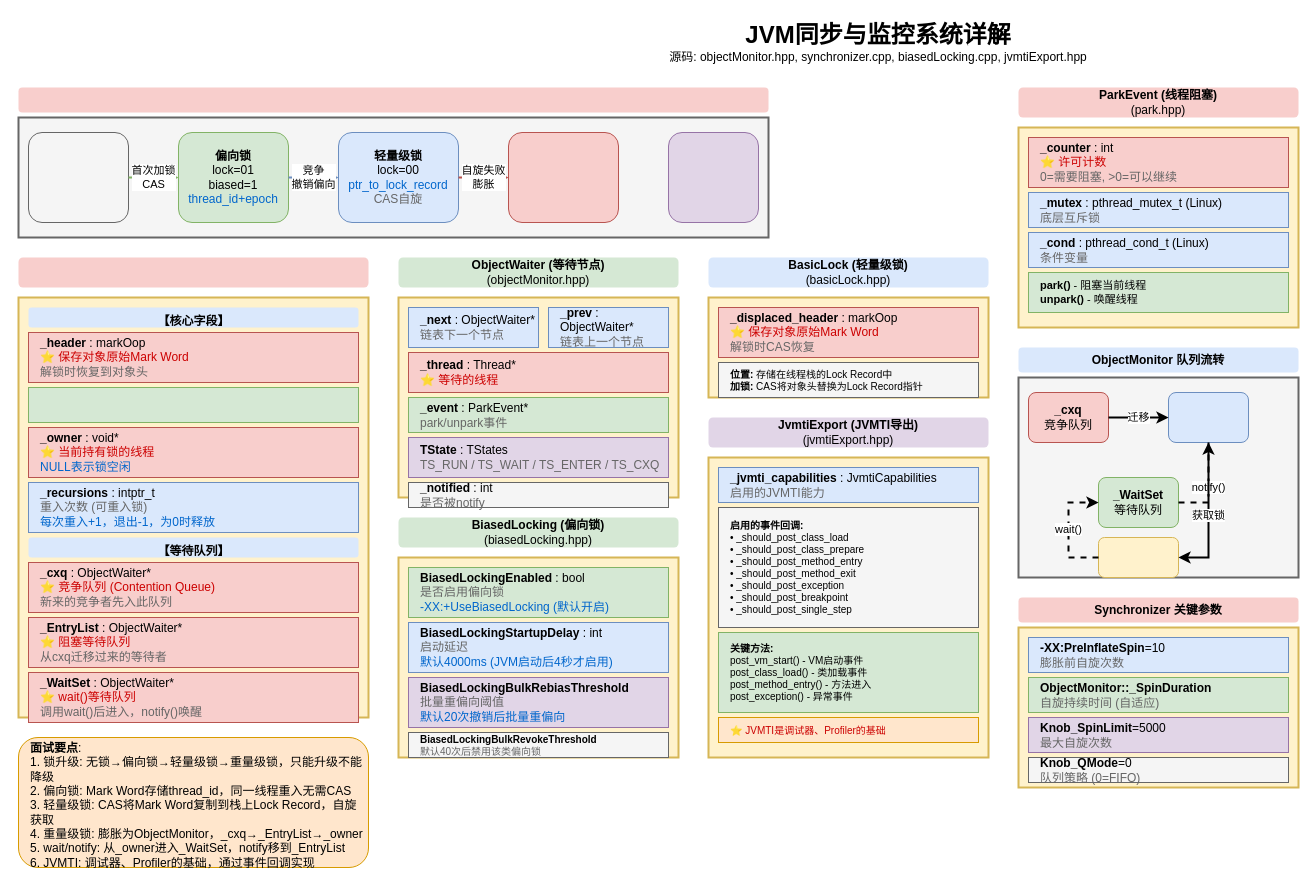
This 1316x887 diagram has some shape labels left out. Each missing label, with the centre of its shape:
"_EntryList 阻塞队列" belongs at (x=1208, y=417).
"_object : void* 指向被锁定的对象" belongs at (x=193, y=404).
"_owner 持有锁" belongs at (x=1138, y=557).
"GC标记 lock=11 forwarding ptr" belongs at (x=713, y=177).
"ObjectMonitor (重量级锁) (objectMonitor.hpp)" belongs at (x=193, y=272).
"synchronized 锁升级流程" belongs at (x=393, y=99).
"无锁 lock=01 biased=0 hashCode存储" belongs at (x=78, y=177).
"重量级锁 lock=10 ptr_to_monitor OS mutex" belongs at (x=563, y=177).
